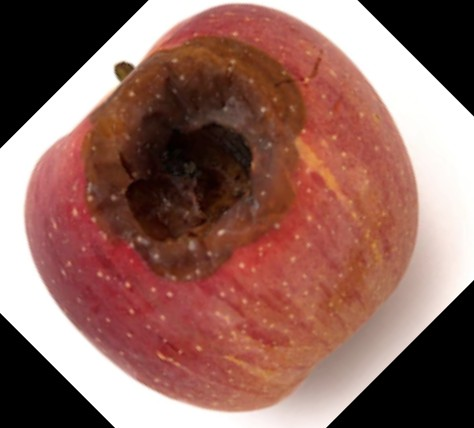rotten_apple: (22, 2, 421, 411)
